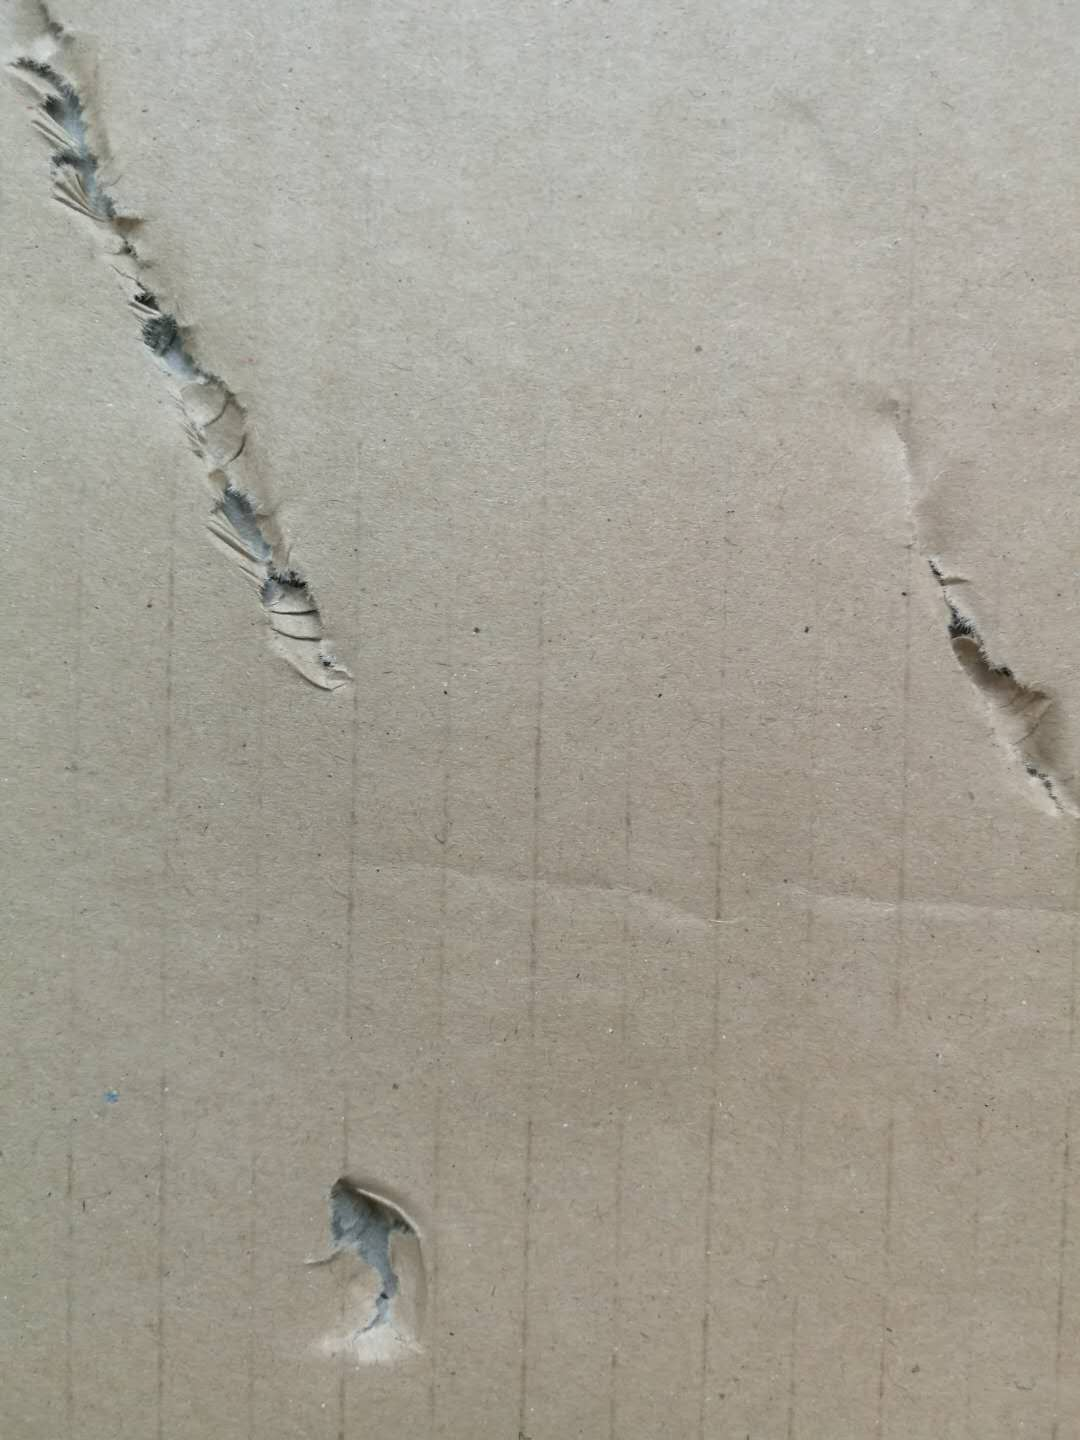defect: (3, 2, 374, 725), (299, 819, 1080, 975), (846, 375, 1080, 865), (265, 1140, 475, 1395)
